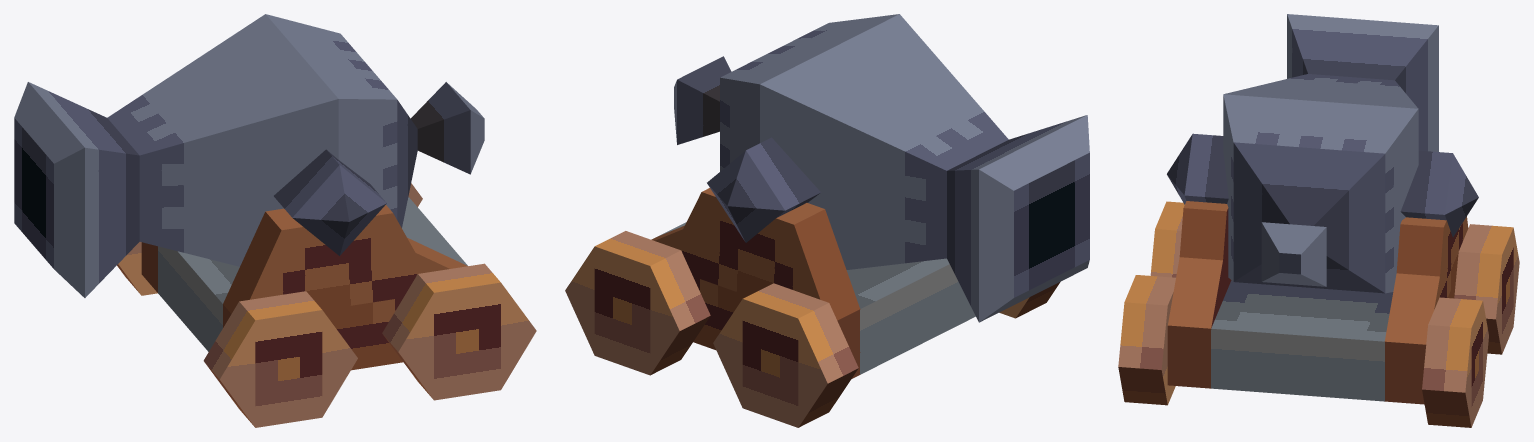
The model's file is cannon.fbx.
3 renders of one model, left to right at view 1: azimuth 30°, elevation 25°; view 2: azimuth 150°, elevation 25°; view 3: azimuth 270°, elevation 25°, orthographic. The views are drawn at different scales.
Visible parts, largest first — view 1: Cannon; view 2: Cannon; view 3: Cannon.
Boxes of the visible parts, <box> form: Cannon: <box>14,14,536,427</box>; Cannon: <box>565,14,1089,427</box>; Cannon: <box>1118,14,1519,427</box>.
Bounding box in the file's own units: 65.99 × 40.47 × 56.95.
1 material, 1 textured.
